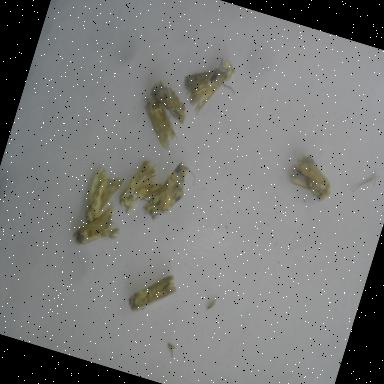abw: (172, 44, 248, 126), (136, 152, 200, 232), (113, 150, 171, 222), (128, 92, 190, 158), (279, 145, 341, 210), (67, 190, 126, 257), (76, 158, 128, 232), (124, 260, 182, 324), (141, 74, 197, 128)
